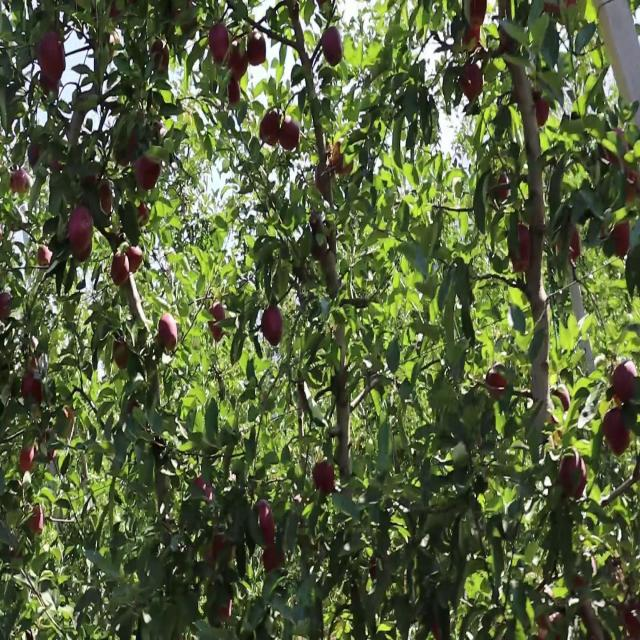apple: (36, 35, 68, 82), (508, 220, 533, 276), (560, 455, 588, 501), (604, 412, 632, 457), (68, 206, 94, 254), (612, 362, 640, 404), (572, 575, 595, 626), (604, 127, 631, 169), (208, 21, 231, 66), (460, 63, 484, 105), (552, 391, 571, 444), (136, 156, 161, 192), (92, 177, 114, 217), (312, 462, 336, 498), (264, 305, 284, 348), (280, 113, 301, 153), (612, 220, 632, 261), (464, 21, 485, 60), (160, 312, 180, 352), (560, 227, 581, 265), (116, 135, 138, 171), (324, 28, 344, 66), (260, 113, 281, 149), (228, 42, 248, 78), (316, 163, 335, 199), (532, 92, 551, 128), (248, 35, 268, 69), (332, 142, 352, 176), (540, 611, 565, 638), (260, 504, 276, 546), (212, 540, 236, 567), (172, 7, 195, 34), (488, 369, 508, 400), (328, 142, 346, 176), (264, 547, 285, 576), (112, 255, 129, 290), (152, 42, 171, 73), (24, 376, 44, 405), (624, 170, 640, 206), (624, 604, 640, 639), (112, 341, 131, 370), (12, 170, 31, 197), (28, 504, 44, 535), (568, 227, 581, 265), (20, 447, 37, 476), (100, 184, 114, 217), (196, 476, 213, 503), (128, 248, 144, 276), (28, 341, 41, 375), (496, 177, 511, 204), (28, 142, 43, 169), (472, 0, 488, 25), (0, 291, 12, 322), (220, 597, 232, 624), (229, 78, 240, 107), (48, 156, 65, 174), (40, 248, 53, 270), (500, 35, 513, 57), (64, 405, 76, 428), (212, 305, 226, 322), (544, 7, 562, 20), (140, 206, 151, 226), (312, 213, 322, 235), (108, 7, 121, 23), (432, 618, 442, 638), (212, 327, 224, 343), (12, 549, 23, 562)
